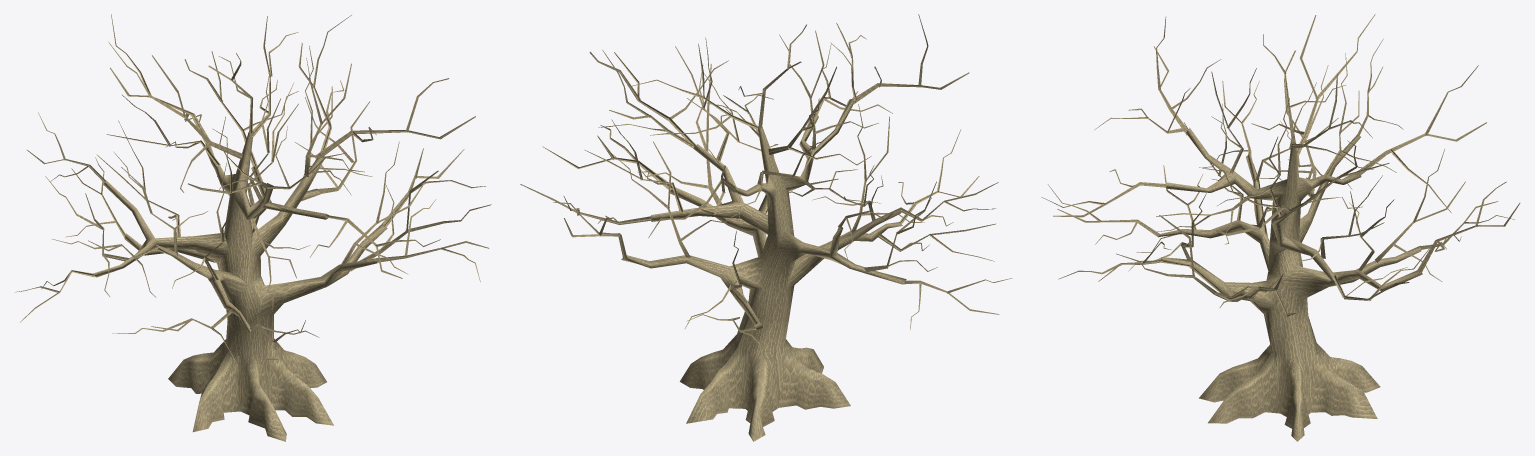
Rendered from INST_HTOWN_TREEC_LOD1.fbx.
3 renders of one model, left to right at view 1: azimuth 30°, elevation 25°; view 2: azimuth 150°, elevation 25°; view 3: azimuth 270°, elevation 25°, orthographic. The views are drawn at different scales.
Visible parts, largest first — view 1: INST_HTOWN_TREEC_LOD1; view 2: INST_HTOWN_TREEC_LOD1; view 3: INST_HTOWN_TREEC_LOD1.
Part boxes in pixels (left/top/right/bottom): INST_HTOWN_TREEC_LOD1: left=15, top=14, right=491, bottom=441; INST_HTOWN_TREEC_LOD1: left=520, top=14, right=1012, bottom=441; INST_HTOWN_TREEC_LOD1: left=1041, top=14, right=1520, bottom=441.
Size of the model in its own units: 118247 by 90744 by 110502.
6 materials, 6 textured.
